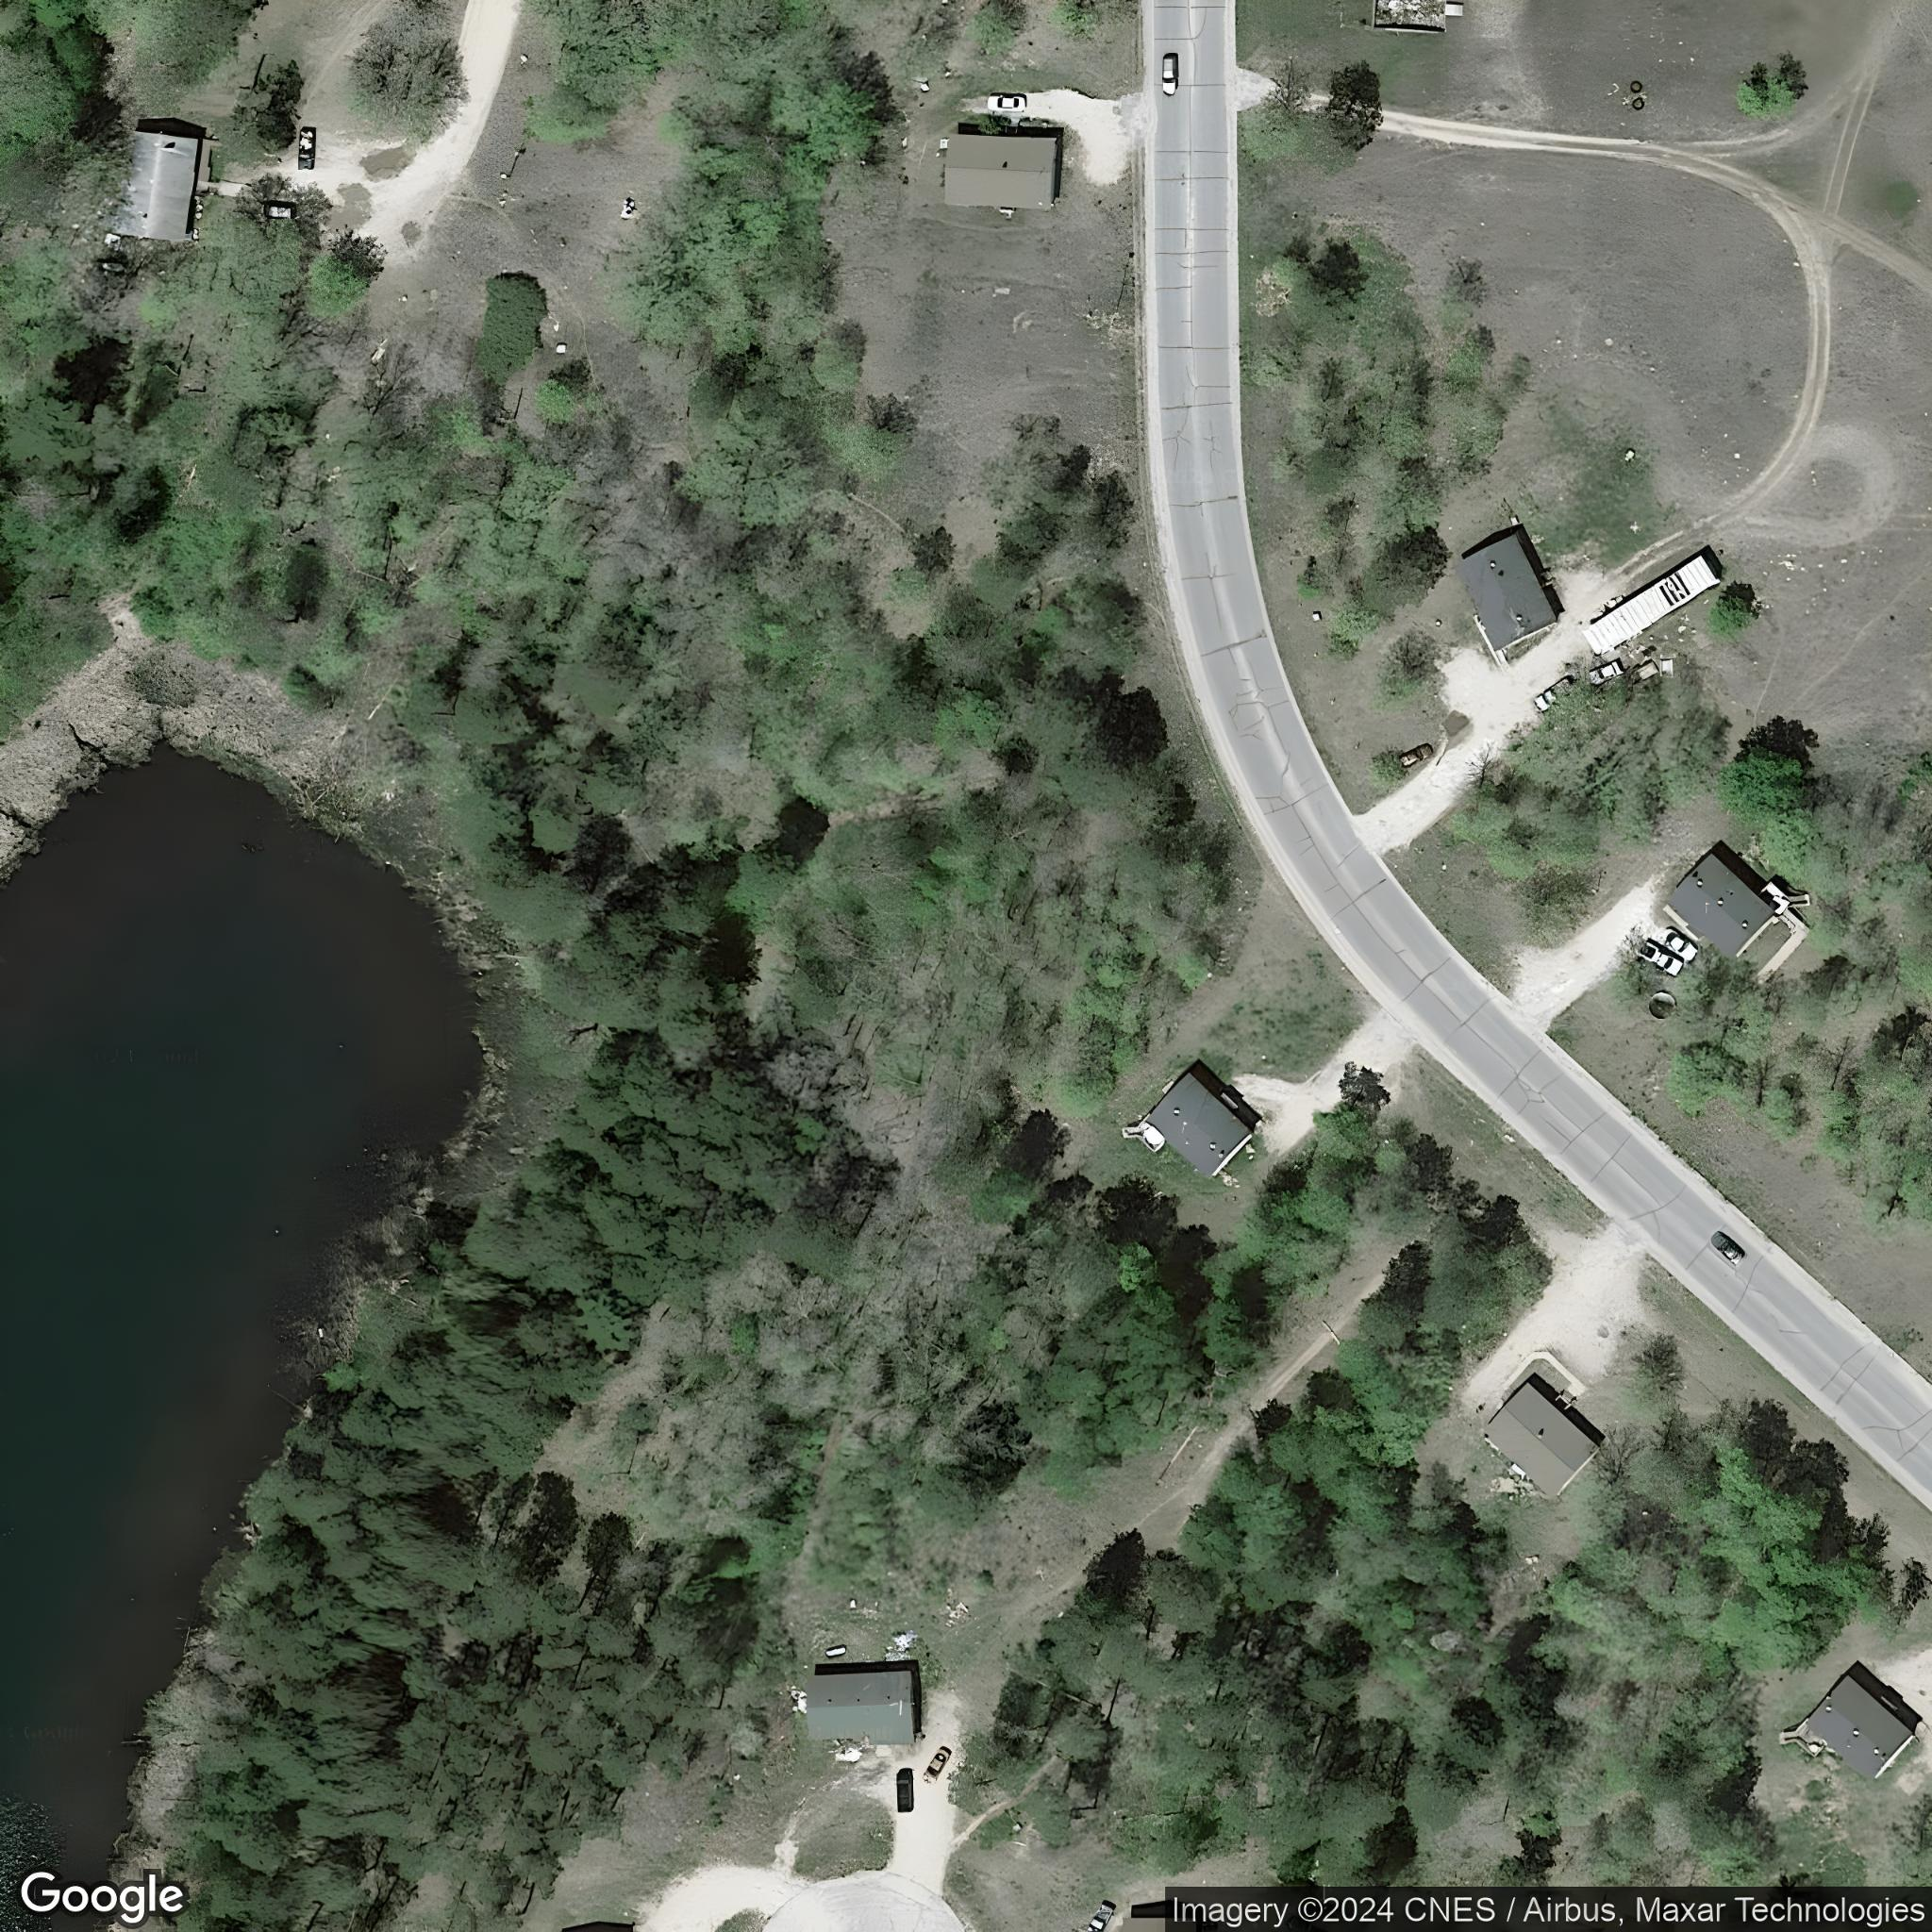House: (1483, 1382, 1603, 1499), (1665, 851, 1780, 964), (1139, 1070, 1258, 1180), (1454, 531, 1559, 655), (1803, 1672, 1918, 1780), (108, 131, 202, 244), (941, 133, 1062, 211), (805, 1668, 918, 1746), (1368, 0, 1449, 37), (1122, 1914, 1166, 1932)
Propane: (823, 1640, 849, 1661)
Trailer: (1582, 552, 1720, 656)
